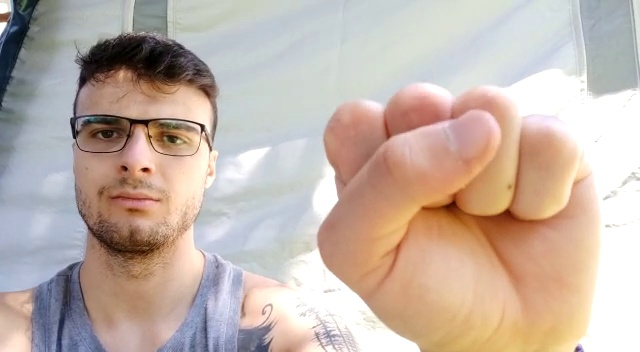Fist: (311, 80, 612, 352)
